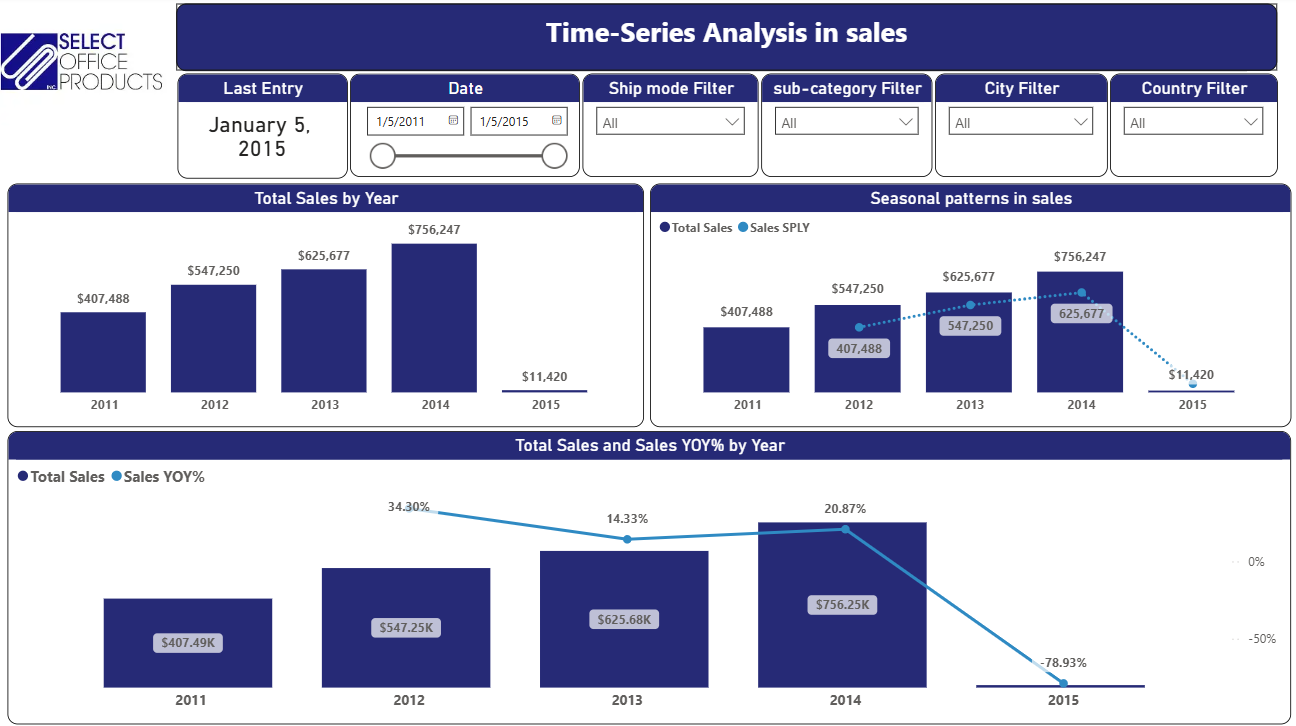

The page's visual inventory and layout, read from the dashboard file:
{"tool":"powerbi","page":{"name":"Time-Series Analysis in sales","canvas":[1280,720],"ordinal":1},"visuals":[{"type":"textbox","box":[177.9,7.4,1081,66.3],"z":0},{"type":"image","box":[0,4.9,169.3,122.7],"z":1000},{"type":"slicer","title":"Country Filter","fields":{"Values":["Country.Country"]},"box":[1094.5,76.1,164.4,101.8],"z":2000},{"type":"slicer","title":"City Filter","fields":{"Values":["City.City"]},"box":[922.7,76.1,169.3,101.8],"z":3000},{"type":"slicer","title":"sub-category Filter","fields":{"Values":["Sub-Category.Sub-Category"]},"box":[752.2,76.1,168.1,101.8],"z":4000},{"type":"slicer","title":"Ship mode Filter","fields":{"Values":["Ship Mode.Ship Mode"]},"box":[576.7,76.1,173,101.8],"z":5000},{"type":"slicer","title":"Date","fields":{"Values":["Dim_date.Date"]},"box":[348.5,76.1,225.8,101.8],"z":6000},{"type":"card","title":"Last Entry","fields":{"Values":["Max(Dim_date.Date)"]},"box":[179.1,76.1,166.9,103.1],"z":7000},{"type":"columnChart","fields":{"Category":["Dim_date.Date.Variation.Date Hierarchy.Year","Dim_date.Date.Variation.Date Hierarchy.Quarter","Dim_date.Date.Variation.Date Hierarchy.Month","Dim_date.Date.Variation.Date Hierarchy.Day"],"Y":["_Measures.Total Sales"]},"box":[12.3,184.1,624.5,239.3],"z":8000},{"type":"lineStackedColumnComboChart","fields":{"Category":["Dim_date.Date.Variation.Date Hierarchy.Year","Dim_date.Date.Variation.Date Hierarchy.Quarter","Dim_date.Date.Variation.Date Hierarchy.Month","Dim_date.Date.Variation.Date Hierarchy.Day"],"Y2":["_Measures.Sales YOY%"],"Y":["_Measures.Total Sales"]},"box":[12.3,427,1260.1,288.3],"z":9000},{"type":"lineClusteredColumnComboChart","title":"Seasonal patterns in sales","fields":{"Category":["Dim_date.Date.Variation.Date Hierarchy.Year","Dim_date.Date.Variation.Date Hierarchy.Quarter","Dim_date.Date.Variation.Date Hierarchy.Month","Dim_date.Date.Variation.Date Hierarchy.Day"],"Y":["_Measures.Total Sales"],"Y2":["_Measures.Sales SPLY"]},"box":[642.9,184.1,629.5,239.3],"z":10000}]}

Visuals, with their boxes in screenshot pixels (x1, y1, x2, y2), scaled from the page's 1280x720 canvas onto the 1296x726 screenshot:
textbox: 180:7:1275:74
image: 0:5:171:129
"Country Filter" slicer: 1108:77:1275:179
"City Filter" slicer: 934:77:1106:179
"sub-category Filter" slicer: 762:77:932:179
"Ship mode Filter" slicer: 584:77:759:179
"Date" slicer: 353:77:581:179
"Last Entry" card: 181:77:350:181
columnChart - Dim_date.Date.Variation.Date Hierarchy.Year x Dim_date.Date.Variation.Date Hierarchy.Quarter: 12:186:645:427
lineStackedColumnComboChart - Dim_date.Date.Variation.Date Hierarchy.Year x Dim_date.Date.Variation.Date Hierarchy.Quarter: 12:431:1288:721
"Seasonal patterns in sales" lineClusteredColumnComboChart: 651:186:1288:427
